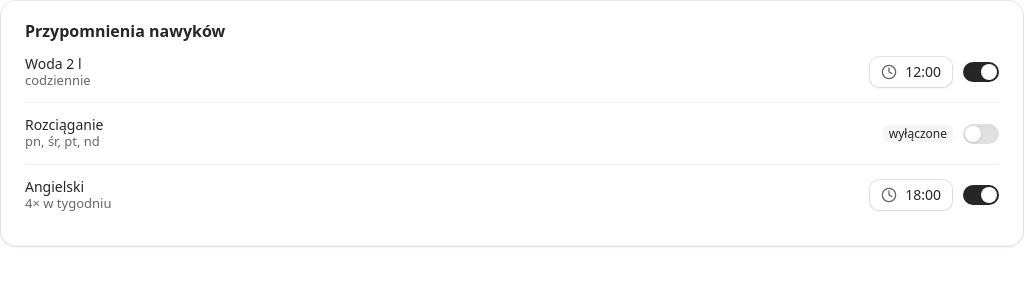
Test: HabitRemindersCard › błąd zapisu cofa i pokazuje komunikat
Click the switch named "Przypomnienie: Rozciąganie": (981, 134) [963,124,999,144]
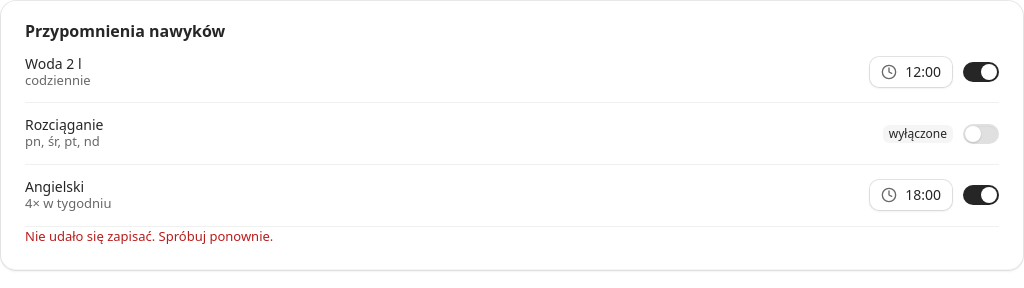
Now the message reads "Nie udało się zapisać. Spróbuj ponownie.", box [25,227,273,245]
